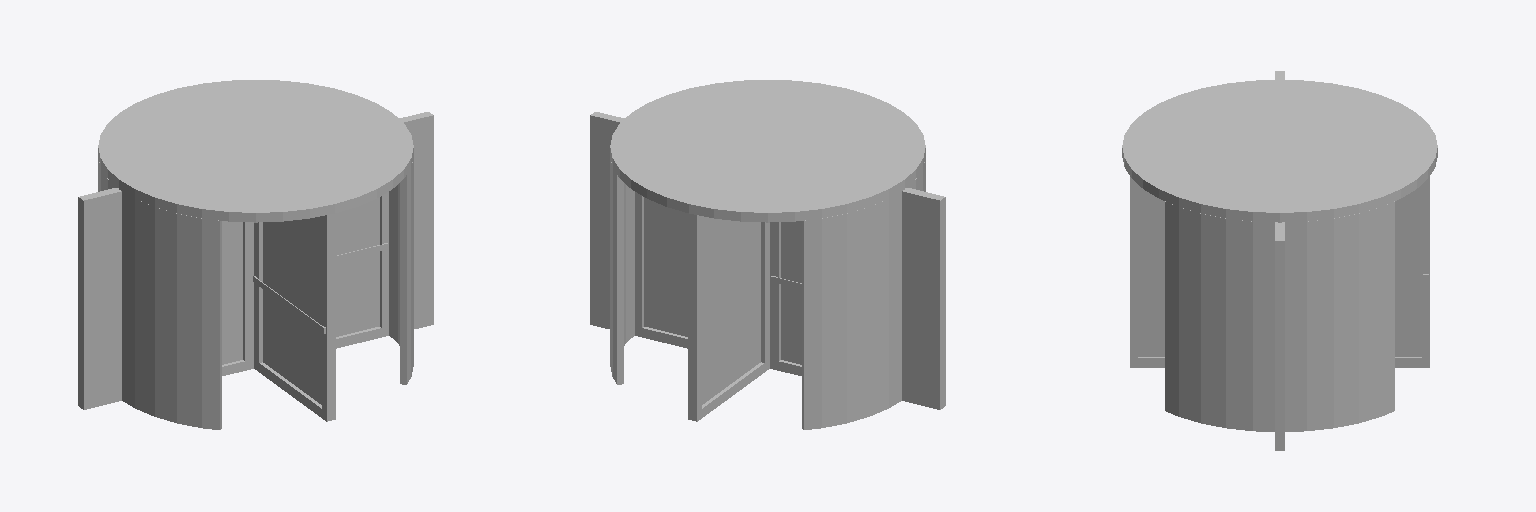
File: revdoor.obj
3 views of the same model, side by side, from view 1: azimuth 30°, elevation 25°; view 2: azimuth 150°, elevation 25°; view 3: azimuth 270°, elevation 25° (orthographic).
Visible parts, largest first — view 1: top, roundwlgls, sweethome3d_opening_on_hinge_1_doorglass, sweethome3d_opening_on_hinge_1_door2, wl_rnd, wlgls, wlside, sweethome3d_opening_on_hinge_1_doorbar; view 2: top, sweethome3d_opening_on_hinge_1_doorglass, roundwlgls, sweethome3d_opening_on_hinge_1_door2, wl_rnd, wlgls, wlside; view 3: roundwlgls, top, wl_rnd, sweethome3d_opening_on_hinge_1_doorglass, sweethome3d_opening_on_hinge_1_door2, wlside.
Boxes of the visible parts, x1=… form: top: x1=98, y1=80, x2=413, y2=222; roundwlgls: x1=98, y1=167, x2=413, y2=418; sweethome3d_opening_on_hinge_1_doorglass: x1=222, y1=197, x2=379, y2=404; sweethome3d_opening_on_hinge_1_door2: x1=222, y1=192, x2=388, y2=421; wl_rnd: x1=98, y1=158, x2=413, y2=429; wlgls: x1=91, y1=127, x2=425, y2=398; wlside: x1=78, y1=112, x2=433, y2=409; sweethome3d_opening_on_hinge_1_doorbar: x1=253, y1=243, x2=388, y2=333; top: x1=610, y1=80, x2=925, y2=222; sweethome3d_opening_on_hinge_1_doorglass: x1=644, y1=197, x2=801, y2=404; roundwlgls: x1=610, y1=167, x2=925, y2=418; sweethome3d_opening_on_hinge_1_door2: x1=635, y1=192, x2=801, y2=421; wl_rnd: x1=610, y1=158, x2=925, y2=429; wlgls: x1=598, y1=127, x2=932, y2=398; wlside: x1=590, y1=112, x2=945, y2=409; roundwlgls: x1=1179, y1=217, x2=1380, y2=422; top: x1=1122, y1=80, x2=1437, y2=222; wl_rnd: x1=1165, y1=201, x2=1394, y2=431; sweethome3d_opening_on_hinge_1_doorglass: x1=1138, y1=185, x2=1421, y2=356; sweethome3d_opening_on_hinge_1_door2: x1=1130, y1=177, x2=1429, y2=367; wlside: x1=1275, y1=71, x2=1284, y2=450.
Bounding box in the file's own units: 384 × 230 × 300.